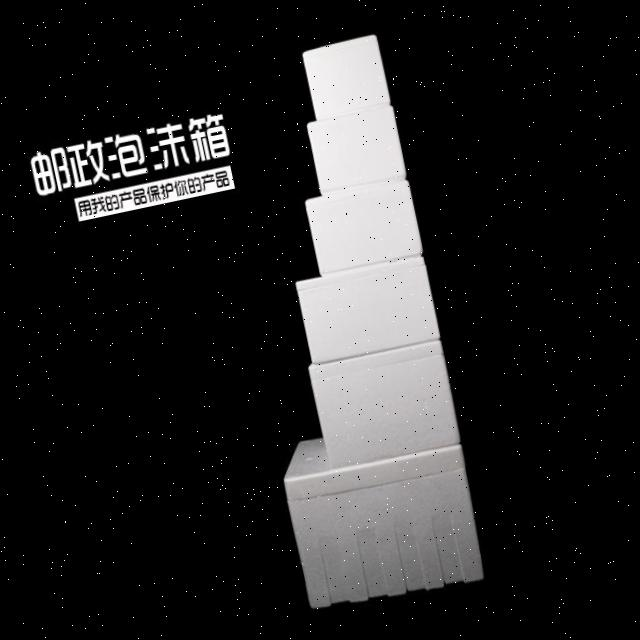styrofoam: (194, 30, 494, 616)
